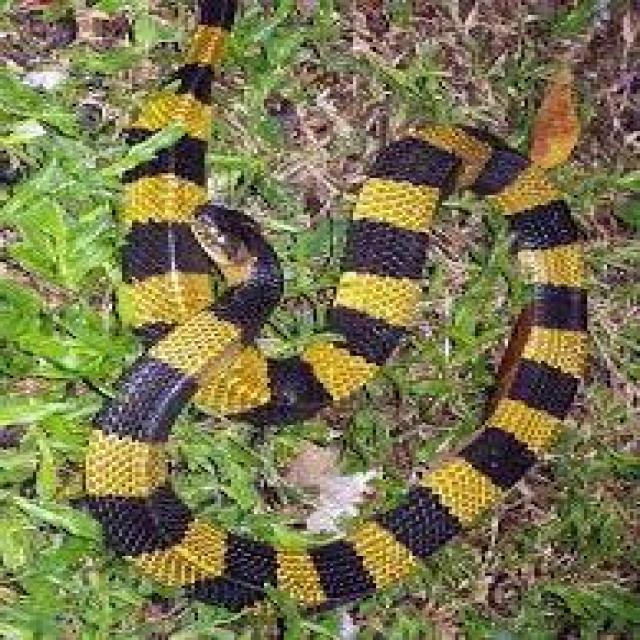Venomous: (165, 202, 318, 343)
